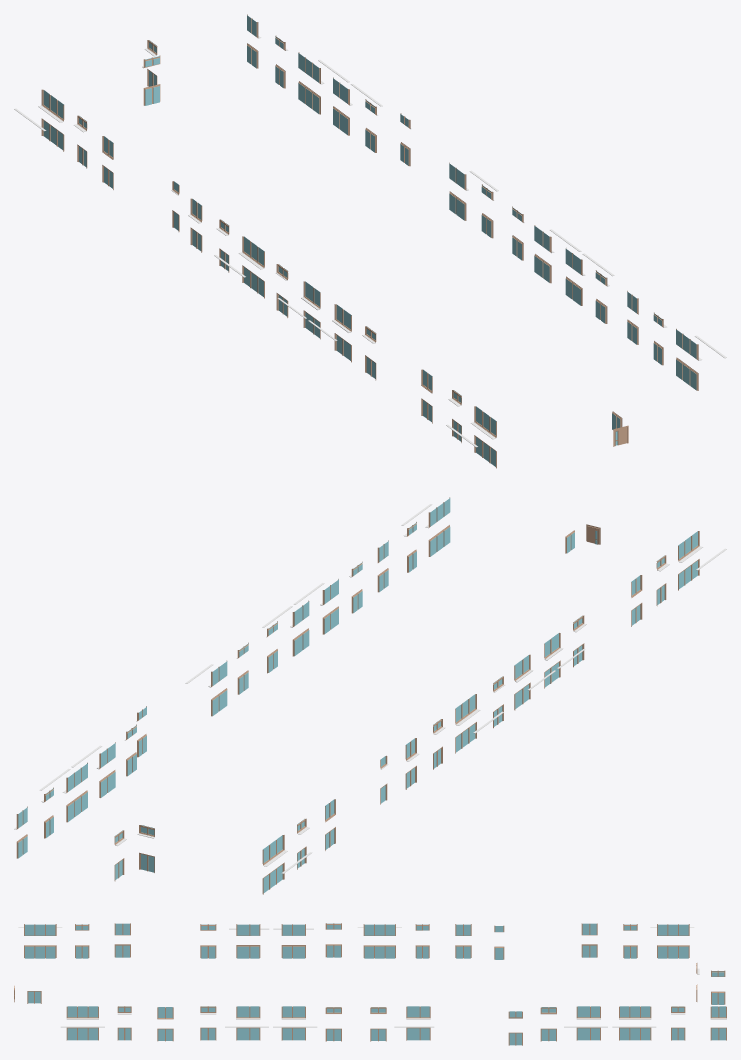
The model's file is window_1.fbx.
3 views of the same model, one above another, from view 1: azimuth 30°, elevation 25°; view 2: azimuth 150°, elevation 25°; view 3: azimuth 270°, elevation 25° (orthographic). The views are drawn at different scales.
Parts seen in each view (by area): view 1: window_1; view 2: window_1; view 3: window_1.
Boxes of the visible parts, <box> form: window_1: <box>14,14,726,468</box>; window_1: <box>14,497,726,894</box>; window_1: <box>14,923,726,1045</box>.
Size of the model in its own units: 2334 by 370 by 7034.
